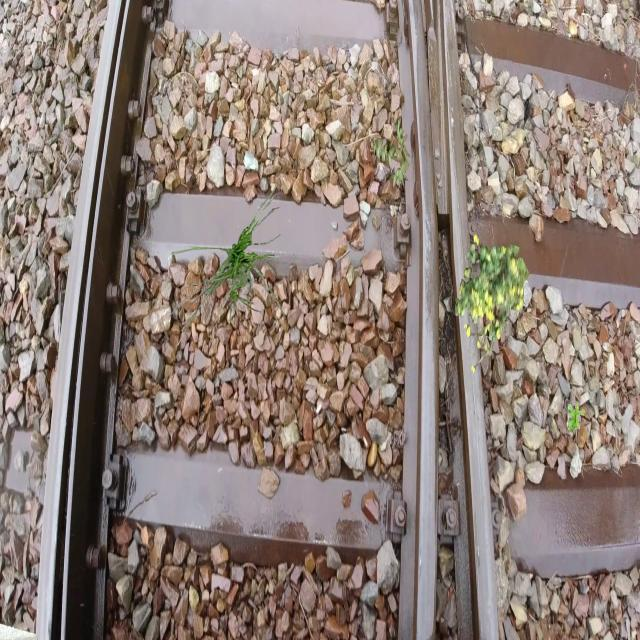Plant: (169, 184, 288, 348), (455, 234, 530, 374), (370, 117, 412, 188), (568, 401, 586, 433)
